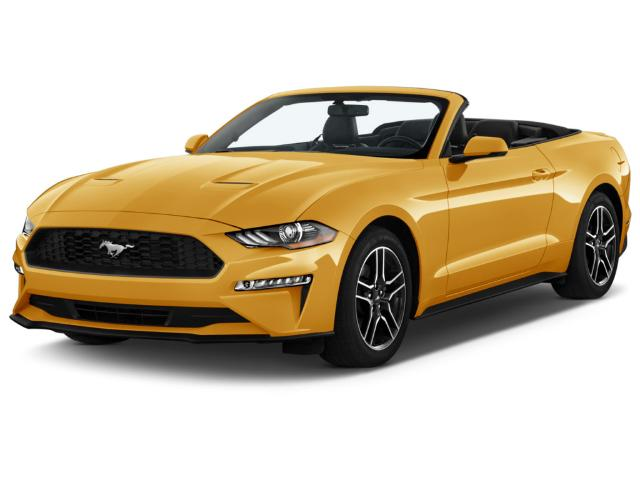ford-mustang: (9, 86, 632, 368)
